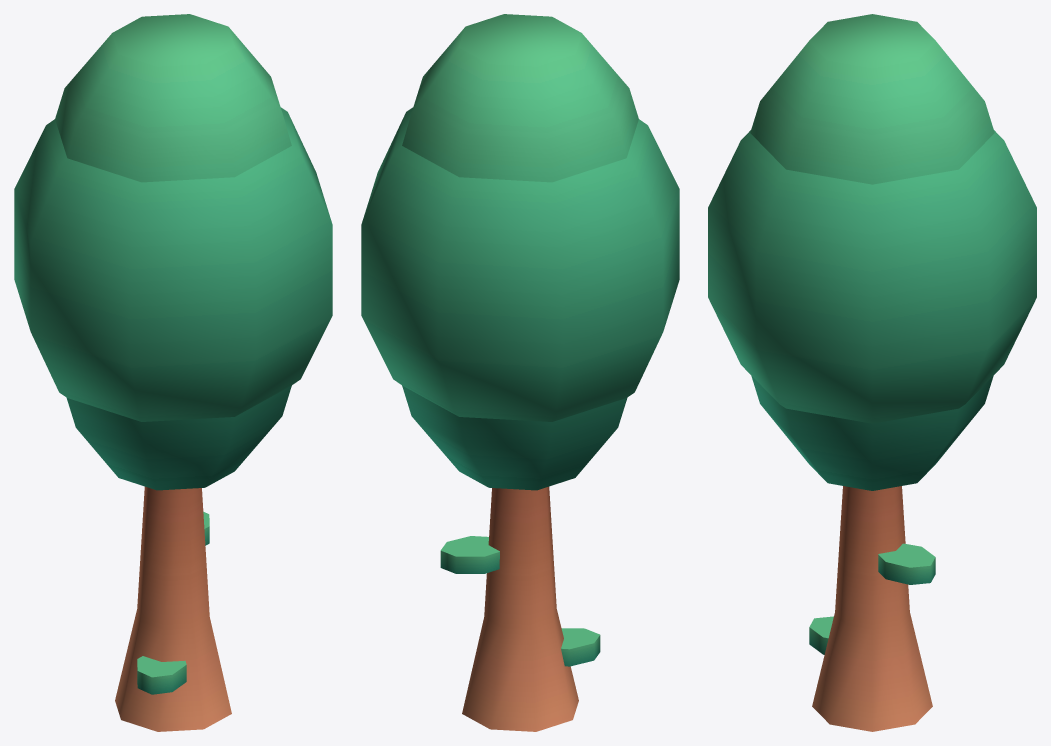
File: tree-large.glb
3 renders of one model, left to right at view 1: azimuth 30°, elevation 25°; view 2: azimuth 150°, elevation 25°; view 3: azimuth 270°, elevation 25°, orthographic.
Parts seen in each view (by area): view 1: tree-large; view 2: tree-large; view 3: tree-large.
Boxes of the visible parts, <box> form: tree-large: <box>14,14,332,731</box>; tree-large: <box>361,14,679,731</box>; tree-large: <box>708,14,1036,731</box>.
Bounding box in the file's own units: 0.8774 × 1.96 × 0.8774.
1 material, 1 textured.
